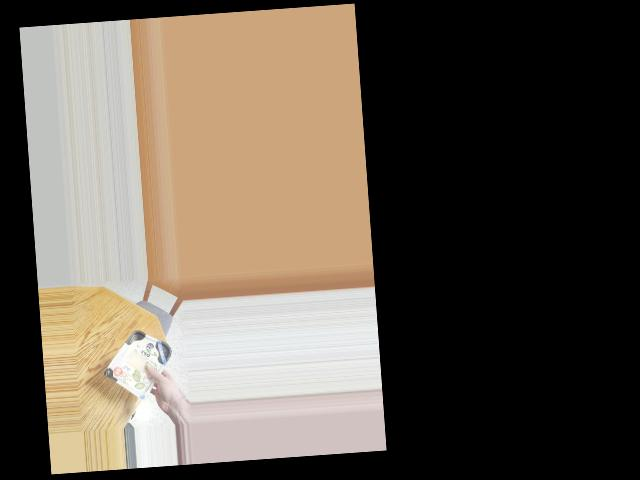cheese: (106, 327, 175, 391)
